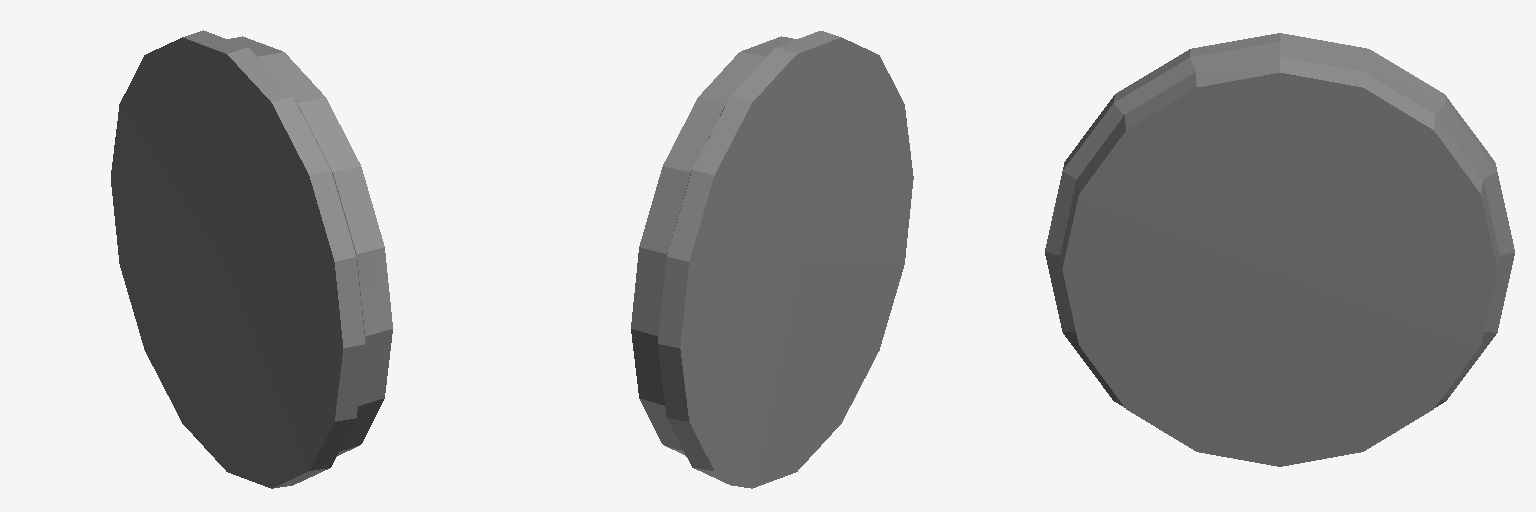
File: RuedaIzq5.obj
3 renders of one model, left to right at view 1: azimuth 30°, elevation 25°; view 2: azimuth 150°, elevation 25°; view 3: azimuth 270°, elevation 25°, orthographic.
Parts seen in each view (by area): view 1: RuedaIzq5; view 2: RuedaIzq5; view 3: RuedaIzq5.
Part boxes in pixels (x1,y1,x2,y2): RuedaIzq5: (111, 30, 392, 488); RuedaIzq5: (631, 31, 913, 488); RuedaIzq5: (1045, 33, 1514, 466).
Bounding box in the file's own units: 0.041 × 0.2641 × 0.2674.